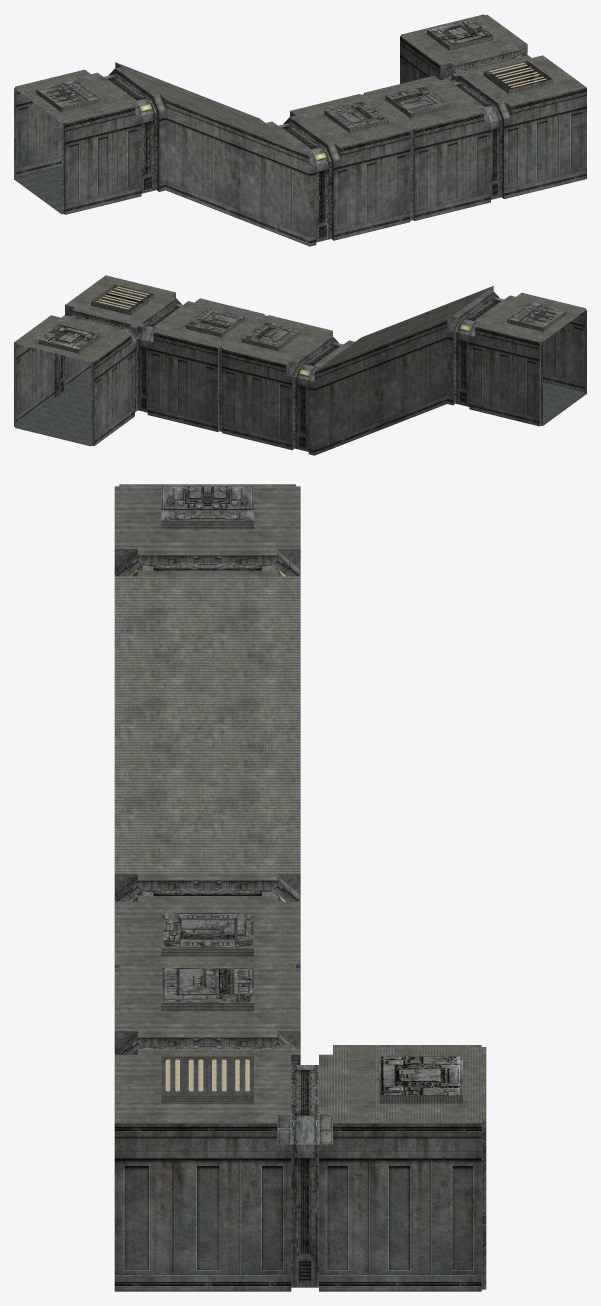
File: poi_all_impl_bunker_abandoned_s01_r11_ramp4_mesh.fbx
The picture shows the model from 3 angles, top to bottom: view 1: azimuth 30°, elevation 25°; view 2: azimuth 150°, elevation 25°; view 3: azimuth 270°, elevation 25°; orthographic projection. The views are drawn at different scales.
Parts seen in each view (by area): view 1: mesh_node; view 2: mesh_node; view 3: mesh_node.
Boxes of the visible parts, bbox=[...] form: mesh_node: bbox=[14, 14, 586, 246]; mesh_node: bbox=[14, 275, 586, 455]; mesh_node: bbox=[114, 484, 486, 1291].
Bounding box in the file's own units: 24 × 8.2 × 8.
